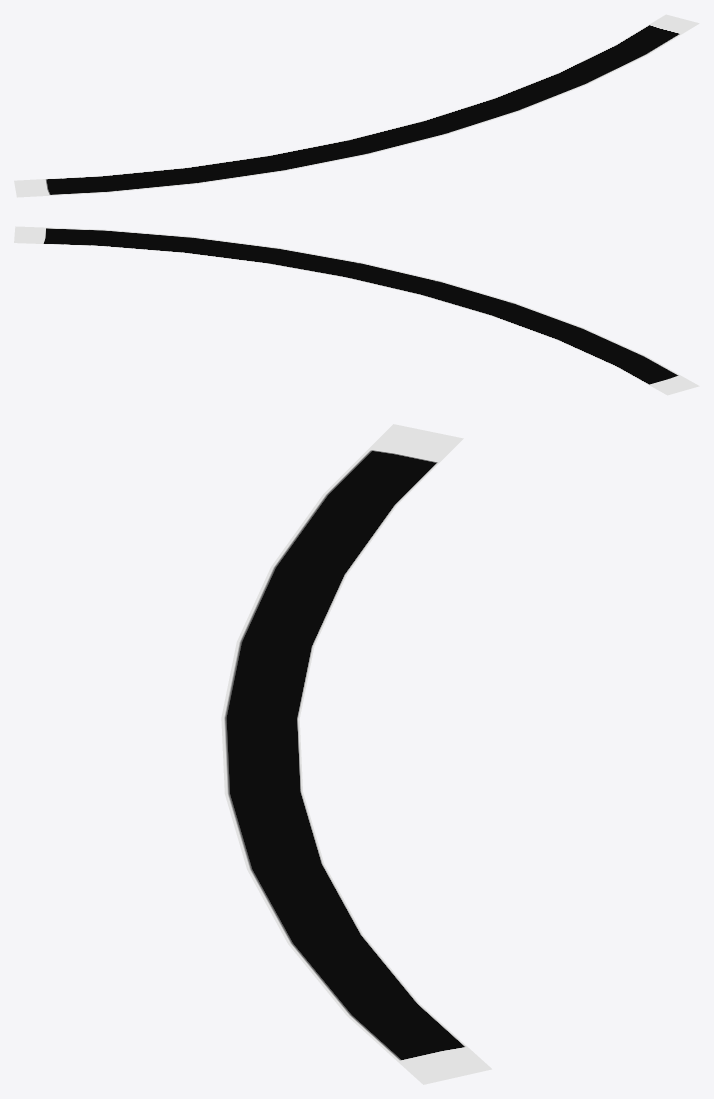
Rendered from screen-shadow.obj.
The picture shows the model from 3 angles, top to bottom: view 1: azimuth 30°, elevation 25°; view 2: azimuth 150°, elevation 25°; view 3: azimuth 270°, elevation 25°; orthographic projection. The views are drawn at different scales.
Parts seen in each view (by area): view 1: pPipe1; view 2: pPipe1; view 3: pPipe1.
Boxes of the visible parts, box(x1,y1,x2,y2) form: pPipe1: box(14, 14, 699, 197); pPipe1: box(14, 226, 699, 395); pPipe1: box(221, 424, 491, 1084).
Bounding box in the file's own units: 817 × 0 × 142.
